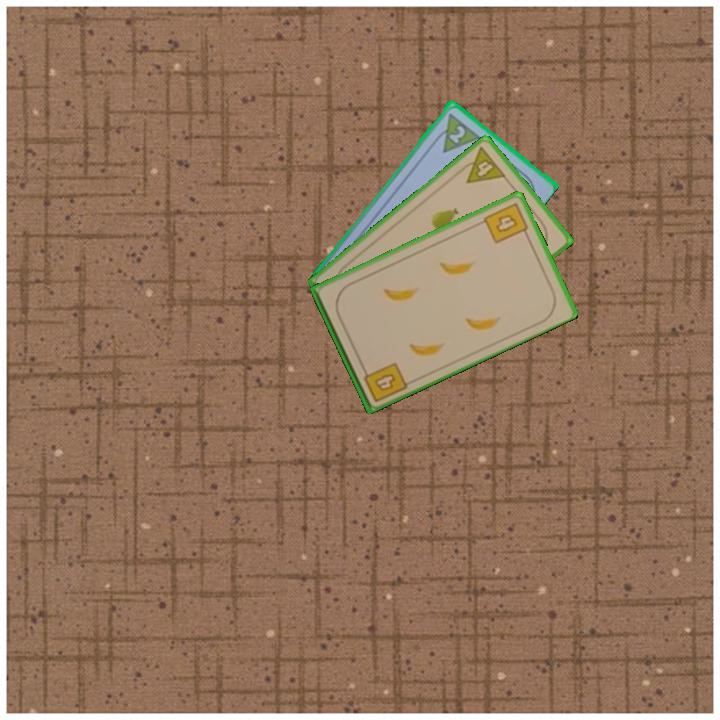2p: (429, 109, 482, 155)
4b: (480, 199, 532, 246), (358, 358, 410, 405)
4p: (454, 143, 509, 186)
